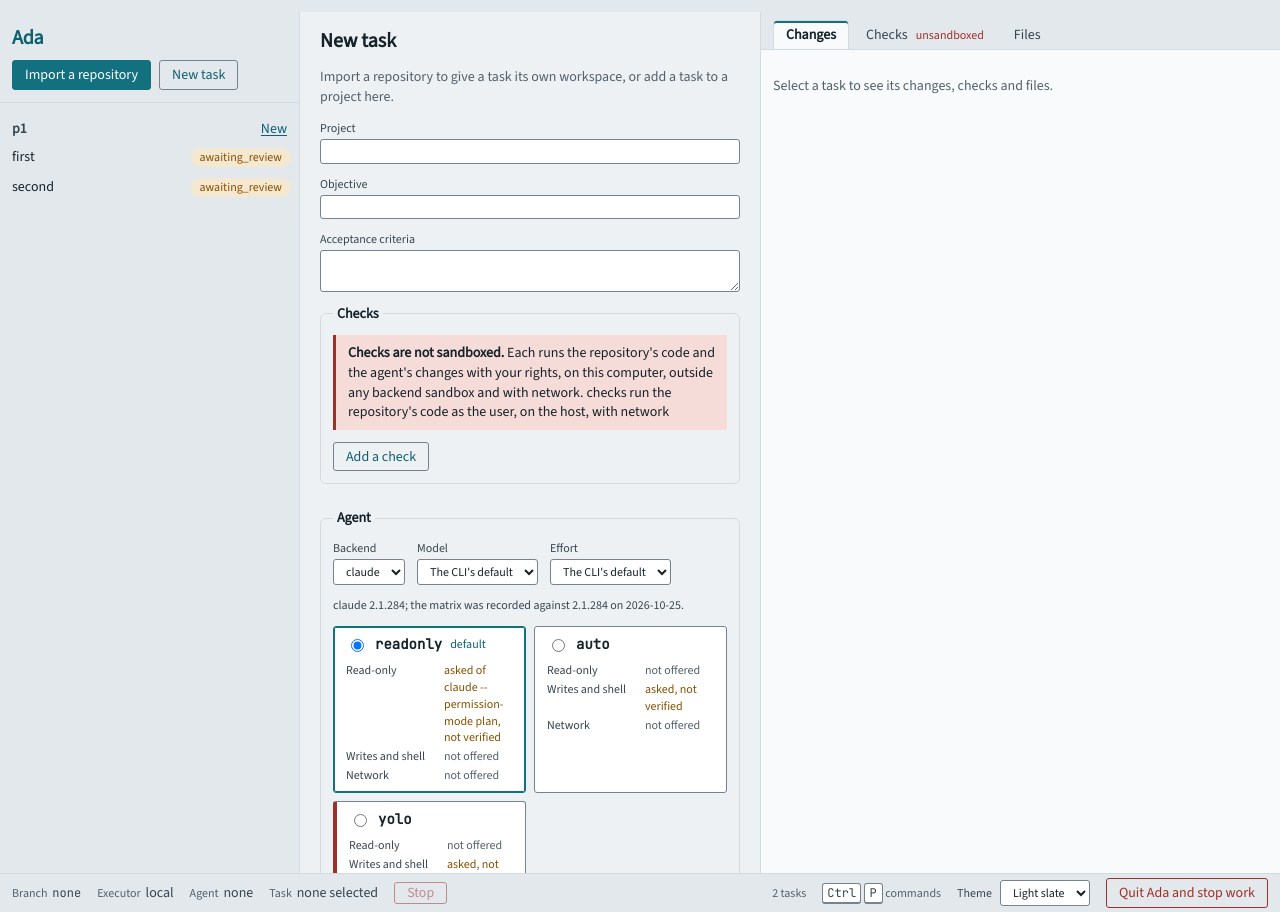
the review panel belongs to its task › does not carry an acknowledgement of provider changes from one task to the next
Click the text "first" at (23, 157), box [0, 142, 102, 172]
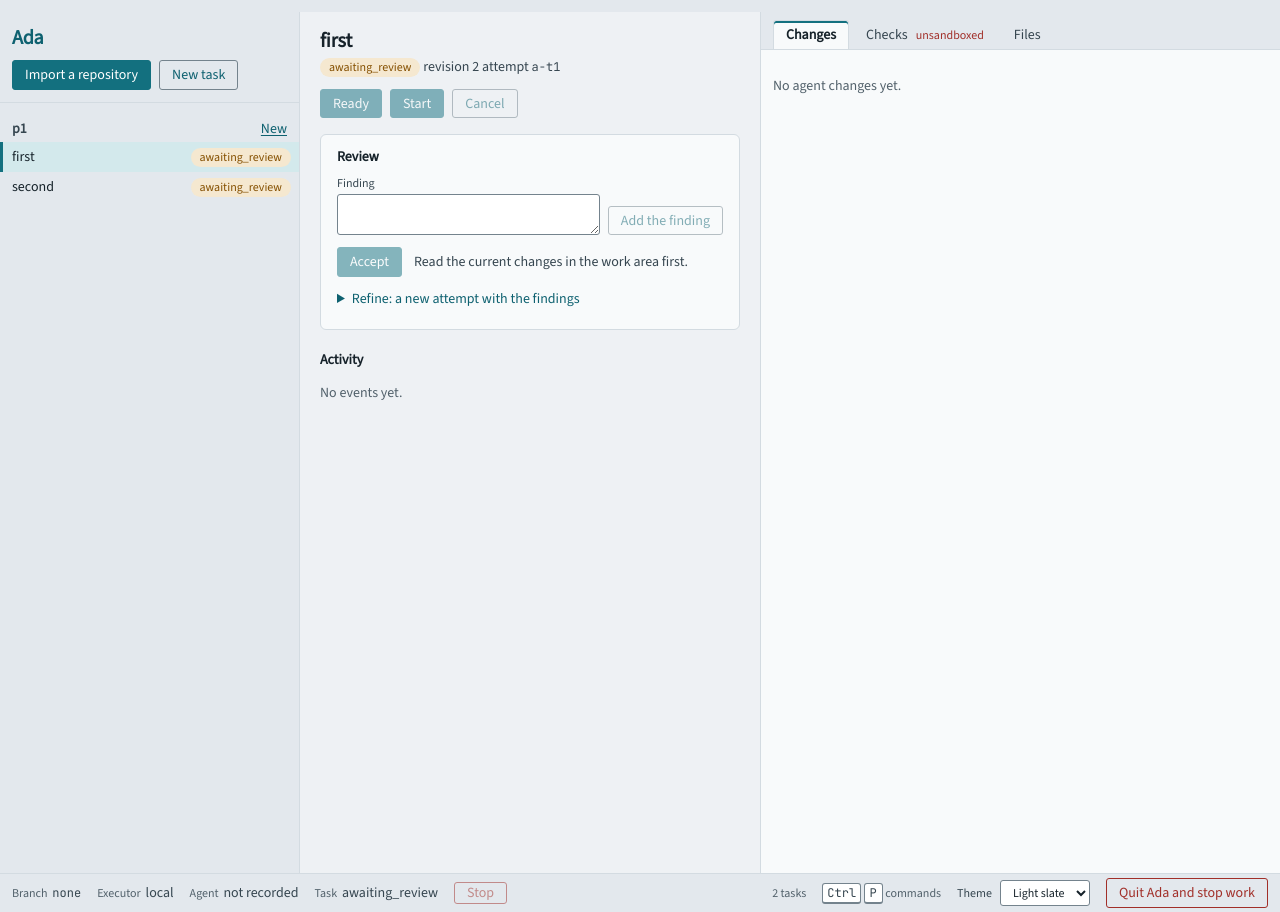
Click the heading "Refine: a new attempt with the findings" at (466, 298), box [352, 289, 580, 308]
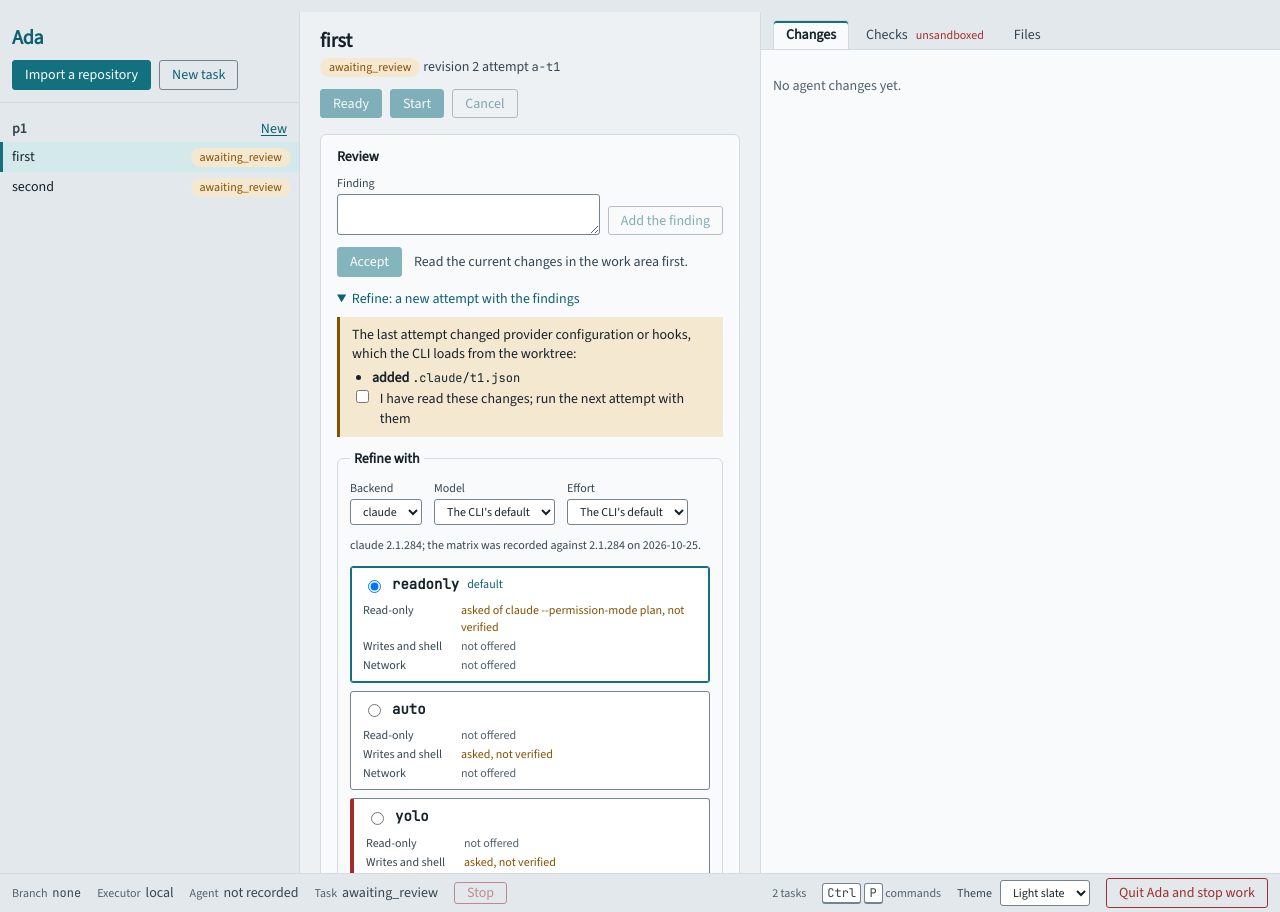
Click the checkbox labelled "I have read these changes; run the next attempt with them" at (362, 397), box [356, 390, 369, 403]
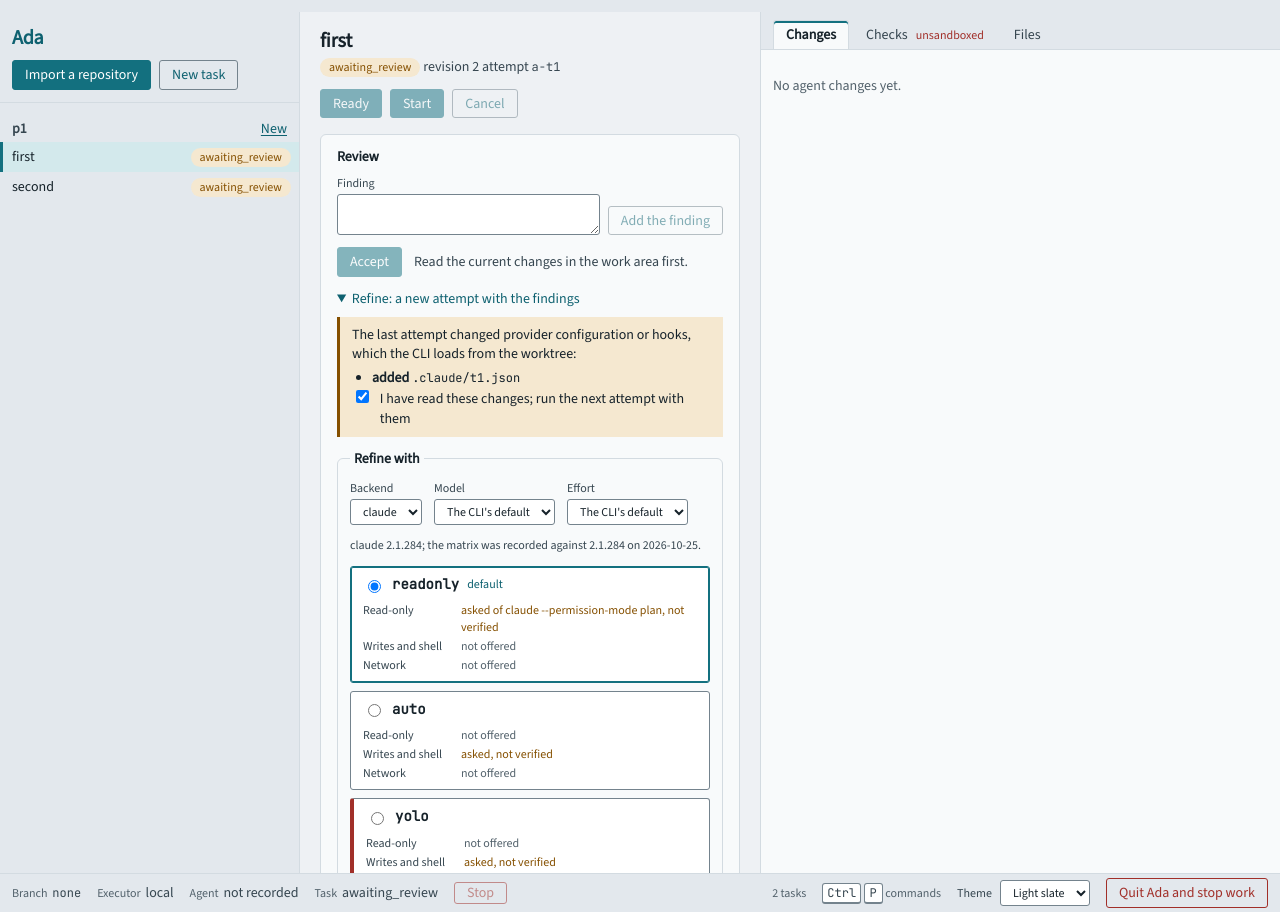
Click the text "second" at (51, 187), box [0, 172, 102, 202]
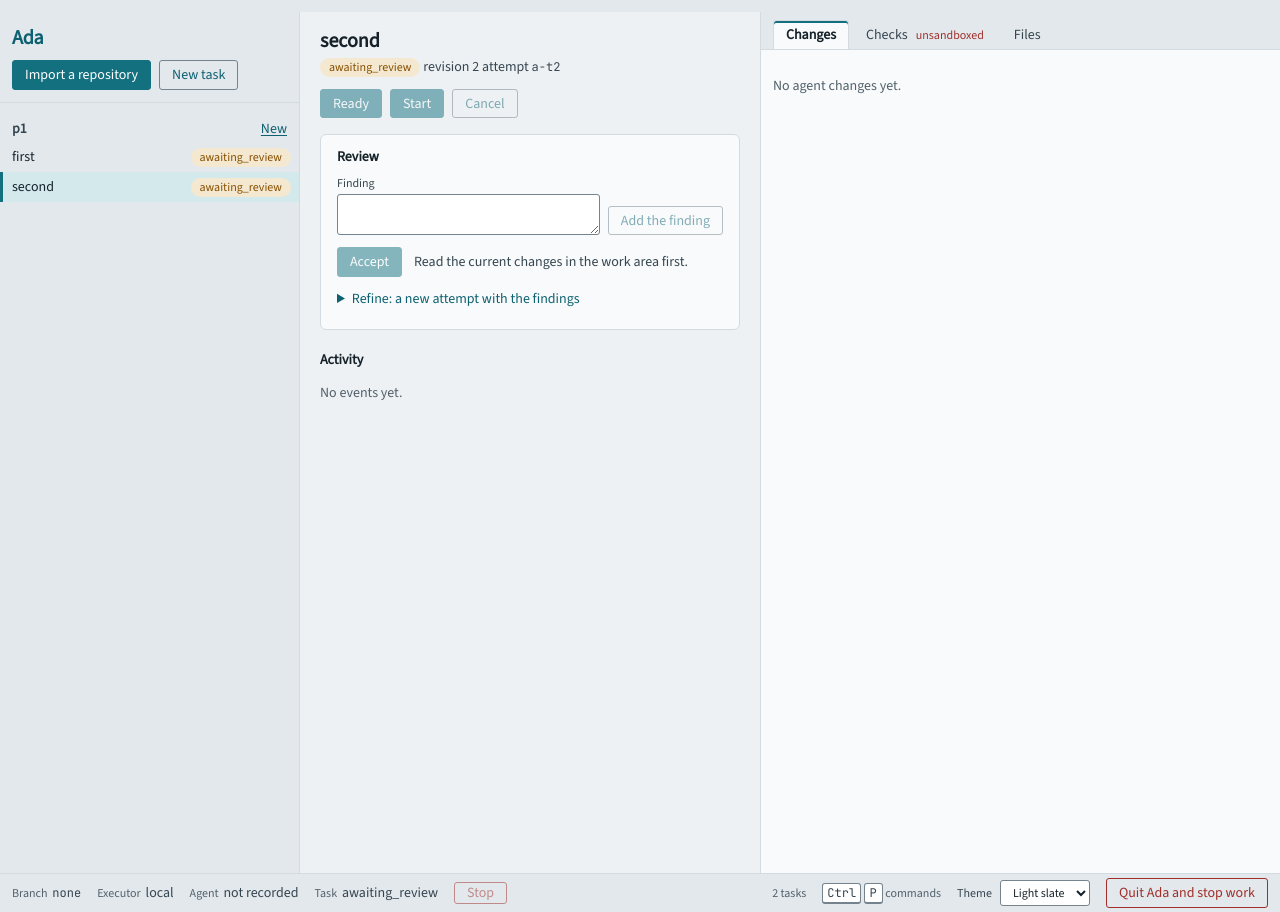
Click the heading "Refine: a new attempt with the findings" at (466, 298), box [352, 289, 580, 308]
(page scrolled)
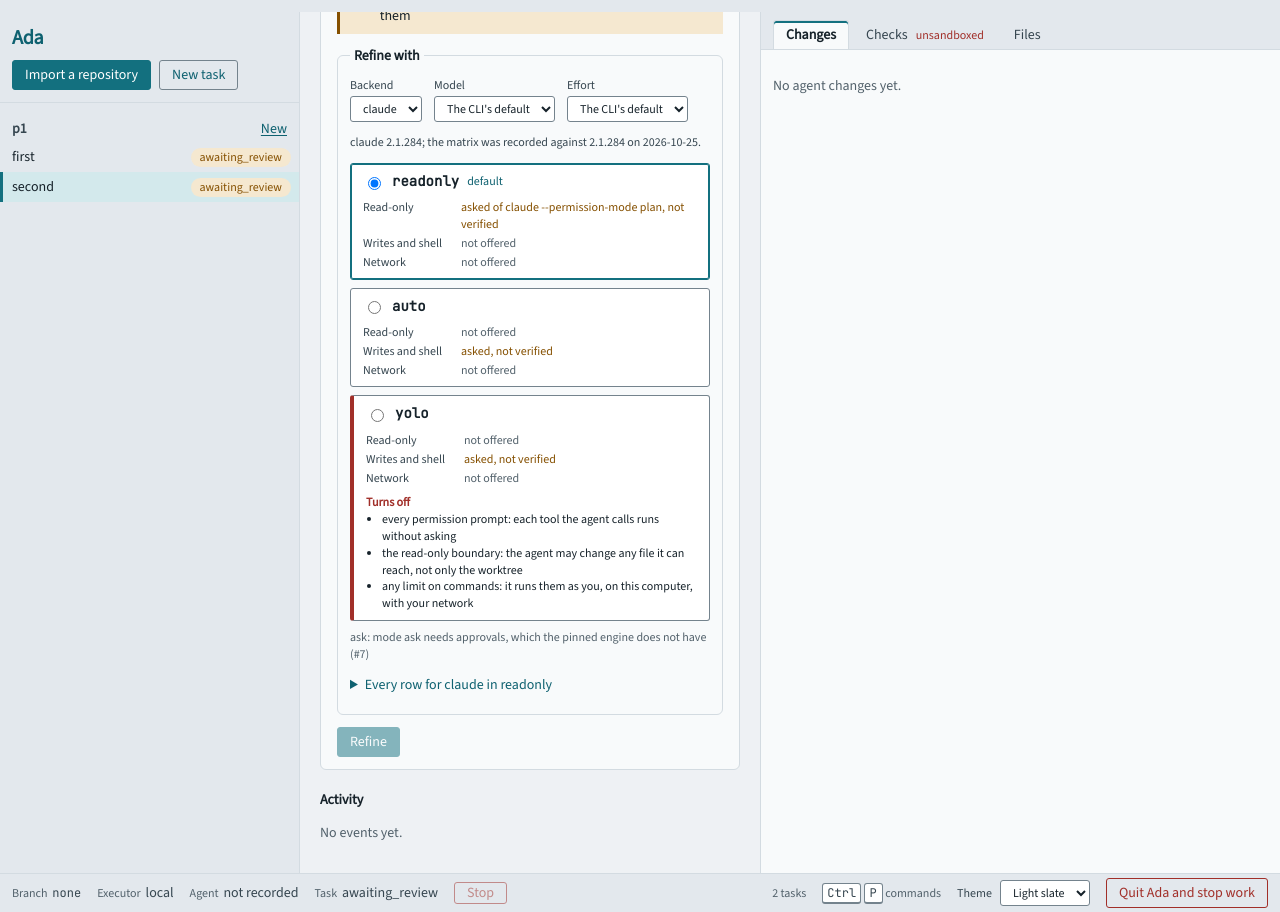
Expected: the button "Refine" is disabled, [337, 727, 400, 757]
